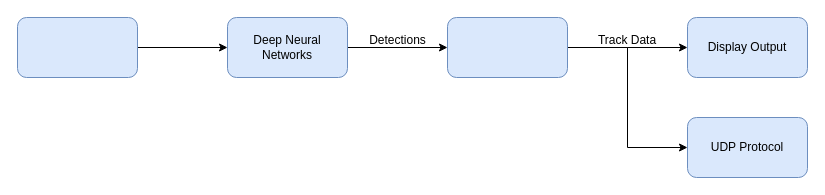
Image size: 825x195. Some labels were removed from this diagram. Here are the shapes that lost their labels. From the top down, the centre of each, then its label:
At pixel 77 47: "Image Data".
At pixel 507 47: "Multi-Target Tracking".
